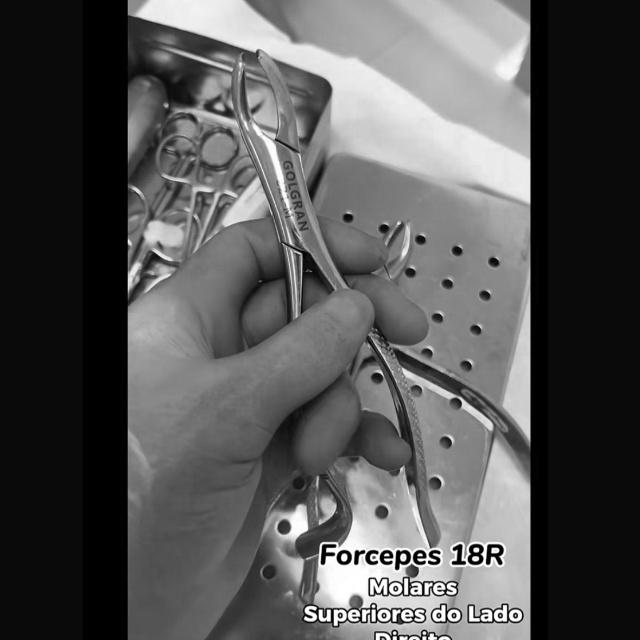forceps: (235, 52, 349, 322), (369, 326, 442, 549), (296, 477, 340, 564)
